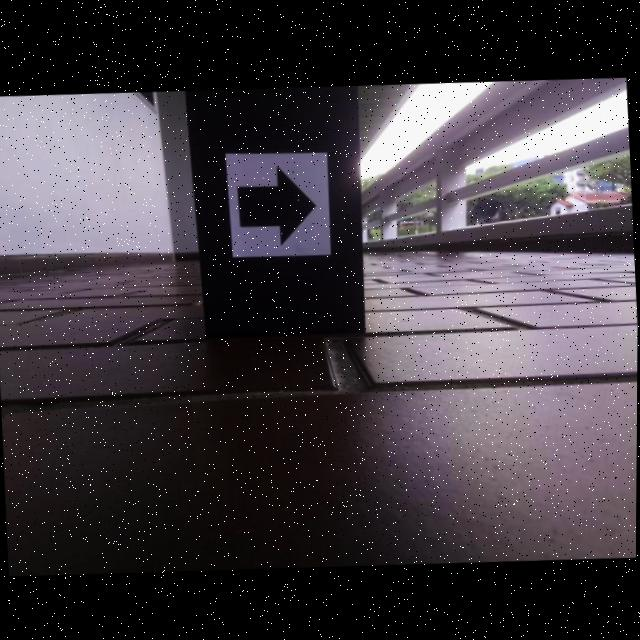RIGHT: (237, 164, 317, 245)
